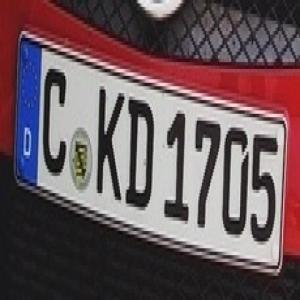Plate: (15, 27, 286, 272)
